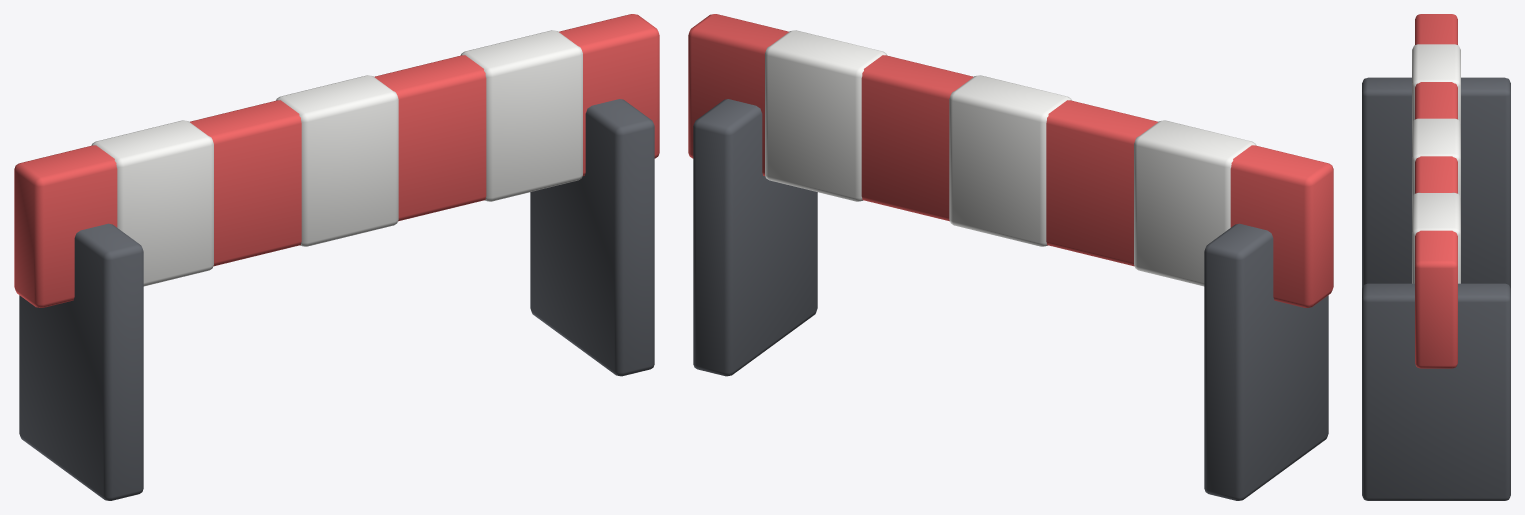
File: barrier.glb
The picture shows the model from 3 angles, left to right: view 1: azimuth 30°, elevation 25°; view 2: azimuth 150°, elevation 25°; view 3: azimuth 270°, elevation 25°; orthographic projection. The views are drawn at different scales.
Parts seen in each view (by area): view 1: Board, LegL.001, LegR.001, Stripe2, Stripe3, Stripe1; view 2: Board, LegL.001, LegR.001, Stripe2, Stripe3, Stripe1; view 3: LegR.001, LegL.001, Board, Stripe3, Stripe2, Stripe1.
Part boxes in pixels (left/top/right/bottom): Board: left=14, top=14, right=659, bottom=307; LegL.001: left=19, top=223, right=143, bottom=500; LegR.001: left=530, top=99, right=654, bottom=376; Stripe2: left=276, top=75, right=398, bottom=246; Stripe3: left=460, top=30, right=582, bottom=201; Stripe1: left=91, top=120, right=213, bottom=286; Board: left=688, top=14, right=1333, bottom=307; LegL.001: left=1204, top=223, right=1328, bottom=500; LegR.001: left=693, top=99, right=817, bottom=376; Stripe2: left=949, top=75, right=1071, bottom=246; Stripe3: left=765, top=30, right=887, bottom=201; Stripe1: left=1134, top=120, right=1256, bottom=286; LegR.001: left=1362, top=283, right=1510, bottom=500; LegL.001: left=1362, top=77, right=1510, bottom=288; Board: left=1415, top=14, right=1457, bottom=368; Stripe3: left=1412, top=192, right=1460, bottom=283; Stripe2: left=1412, top=118, right=1460, bottom=197; Stripe1: left=1412, top=44, right=1460, bottom=123.
Size of the model in its own units: 2.2 by 1.04 by 0.55.
